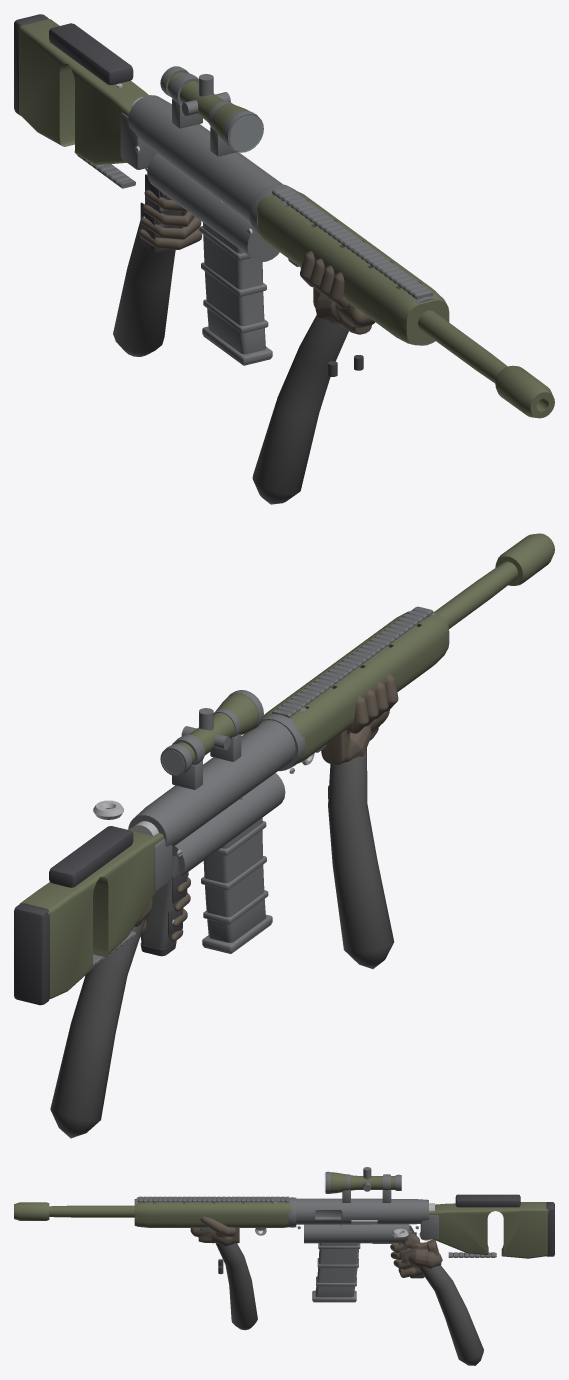
The picture shows the model from 3 angles, top to bottom: view 1: azimuth 30°, elevation 25°; view 2: azimuth 150°, elevation 25°; view 3: azimuth 270°, elevation 25°; orthographic projection. The views are drawn at different scales.
Visible parts, largest first — view 1: sr338, HandLeft, HandRight, Magazine; view 2: sr338, HandLeft, HandRight, Magazine; view 3: sr338, HandRight, HandLeft, Magazine.
Part boxes in pixels (bbox=[...]): sr338: bbox=[14, 14, 554, 418]; HandLeft: bbox=[252, 251, 375, 504]; HandRight: bbox=[113, 190, 202, 356]; Magazine: bbox=[199, 222, 272, 365]; sr338: bbox=[14, 533, 554, 1005]; HandLeft: bbox=[321, 673, 398, 968]; HandRight: bbox=[50, 876, 190, 1138]; Magazine: bbox=[201, 817, 272, 953]; sr338: bbox=[14, 1167, 554, 1278]; HandRight: bbox=[390, 1233, 483, 1365]; HandLeft: bbox=[190, 1203, 257, 1330]; Magazine: bbox=[312, 1243, 360, 1302].
Size of the model in its own units: 0.1819 by 0.4253 by 1.1.
